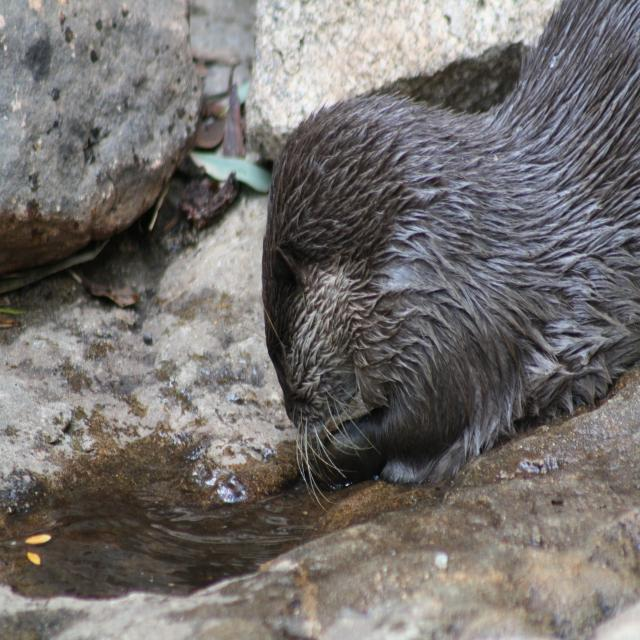otter: (264, 3, 640, 486)
